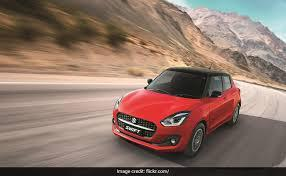Hatchback: (111, 65, 243, 158)
